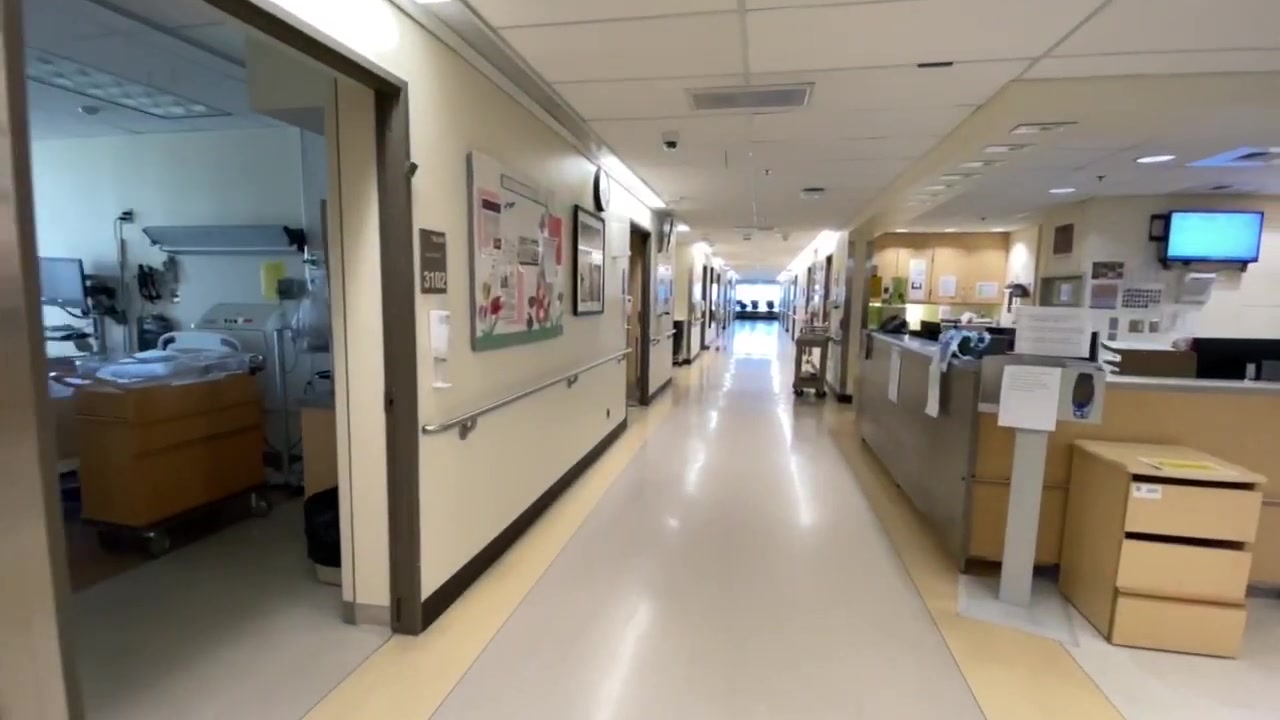TV: (1156, 209, 1267, 273)
cabinet: (873, 232, 1005, 306)
computer: (1193, 337, 1280, 381), (38, 256, 87, 309)
counter: (973, 372, 1280, 588), (857, 326, 976, 562)
countertop: (871, 328, 981, 367)
dispenser: (1063, 369, 1103, 429), (429, 310, 453, 389), (624, 295, 634, 330)
hallway_assist_bar: (421, 347, 633, 440), (651, 329, 677, 345)
hospital_bed: (50, 330, 240, 474)
table: (1061, 436, 1254, 650)
utility_cart: (792, 326, 830, 400)
waste_bin: (305, 488, 342, 585)
